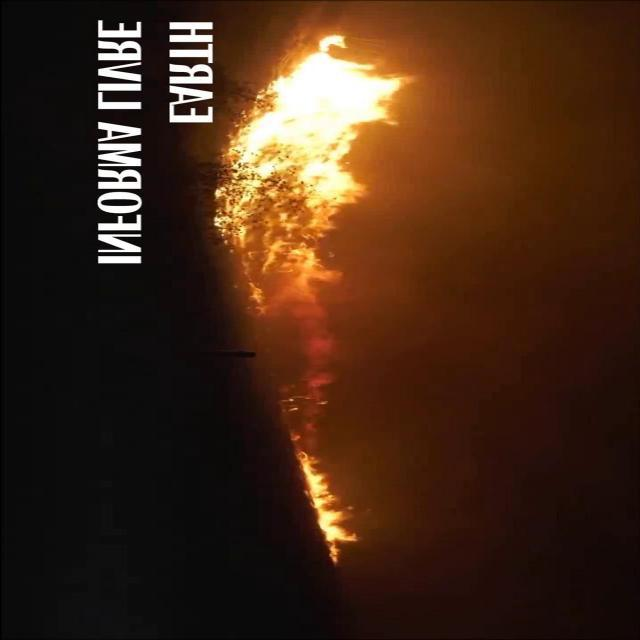Fire: (210, 34, 430, 321), (294, 451, 362, 566)
